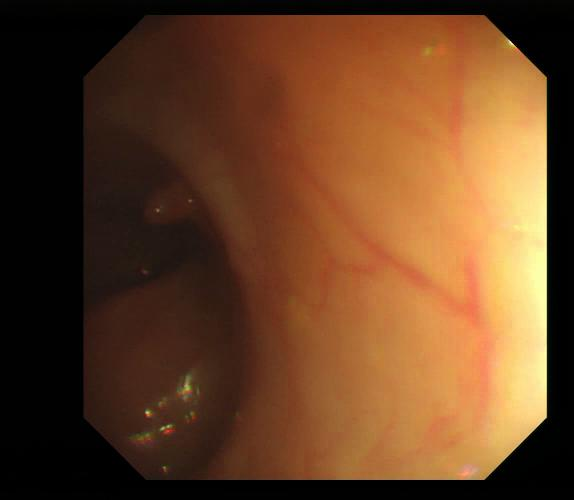polyp: (140, 176, 201, 223)
